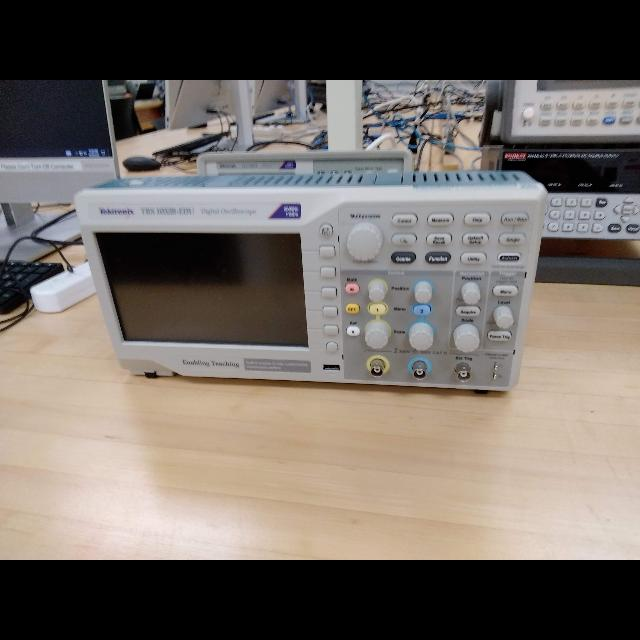Digital-Oscilloscope: (75, 194, 544, 389)
